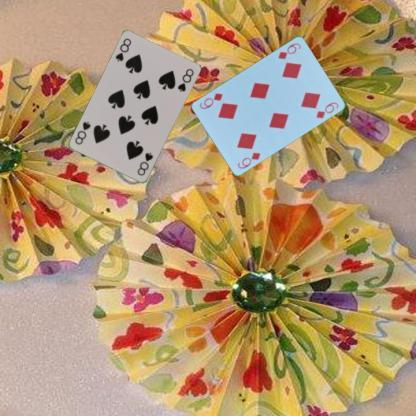6d: (235, 149, 262, 170), (275, 40, 302, 60)
8s: (134, 150, 154, 178), (112, 36, 132, 63)
